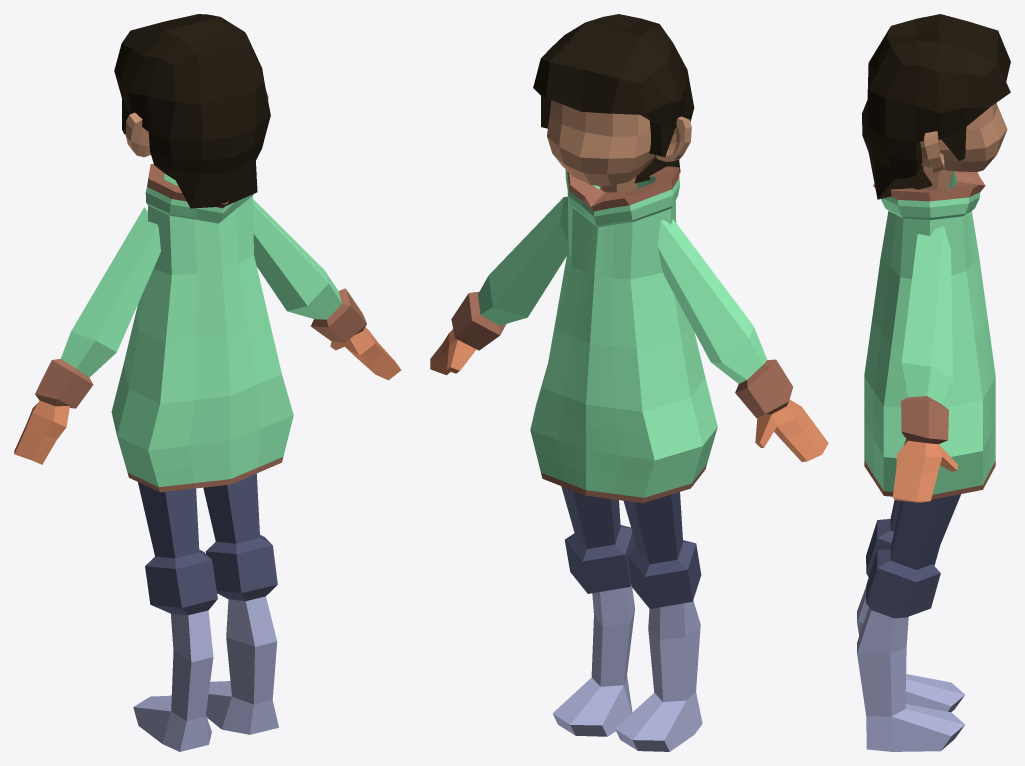
The model's file is npc_boy.glb.
The picture shows the model from 3 angles, left to right: view 1: azimuth 30°, elevation 25°; view 2: azimuth 150°, elevation 25°; view 3: azimuth 270°, elevation 25°; orthographic projection. The views are drawn at different scales.
Visible parts, largest first — view 1: Cube, Cylindre, Cube.004, Cylindre.001, Cube.002; view 2: Cube, Cylindre, Cylindre.001, Cube.004, Cube.001, Cube.002; view 3: Cube, Cylindre, Cube.004, Cylindre.001, Cube.001, Cube.002, Cylindre.002.
Part boxes in pixels (<box>): Cube: <box>111,164,293,492</box>; Cylindre: <box>133,473,278,751</box>; Cube.004: <box>114,14,270,208</box>; Cylindre.001: <box>14,199,401,464</box>; Cube.002: <box>125,92,268,157</box>; Cube: <box>530,166,717,502</box>; Cylindre: <box>552,486,702,751</box>; Cylindre.001: <box>430,196,828,461</box>; Cube.004: <box>533,14,694,183</box>; Cube.001: <box>547,100,655,185</box>; Cube.002: <box>656,116,691,161</box>; Cube: <box>864,171,995,499</box>; Cylindre: <box>857,494,965,751</box>; Cube.004: <box>862,14,1010,199</box>; Cylindre.001: <box>892,226,957,502</box>; Cube.001: <box>920,103,1007,171</box>; Cube.002: <box>924,131,944,172</box>; Cylindre.002: <box>919,165,952,190</box>.
Size of the model in its own units: 1.64 by 2.84 by 0.5672.
